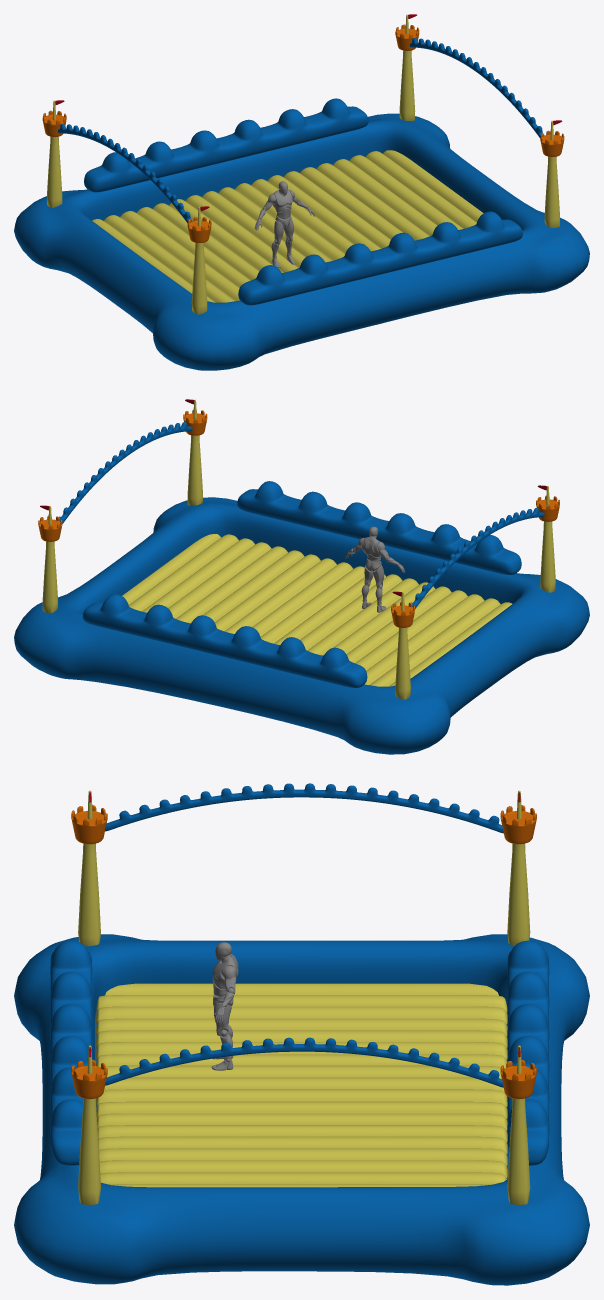
The model's file is Luftburg.fbx.
The picture shows the model from 3 angles, top to bottom: view 1: azimuth 30°, elevation 25°; view 2: azimuth 150°, elevation 25°; view 3: azimuth 270°, elevation 25°; orthographic projection. The views are drawn at different scales.
Visible parts, largest first — view 1: Rahmen, Boden, Mauer2, pasted__polySurface5, SkeletalMeshComponent0, Turm4, Turm1, Turm2, Turm3, pCube18, pCube17; view 2: Rahmen, Boden, pasted__polySurface5, Mauer2, SkeletalMeshComponent0, Turm3, Turm2, Turm4, Turm1, pCube18, pCube17; view 3: Rahmen, Boden, Mauer2, pasted__polySurface5, pCube17, pCube18, Turm2, Turm1, Turm4, Turm3, SkeletalMeshComponent0.
Part boxes in pixels (x1,y1,x2,y2): Rahmen: [14, 113, 589, 370]; Boden: [92, 150, 483, 302]; Mauer2: [238, 211, 522, 305]; pasted__polySurface5: [84, 98, 368, 192]; SkeletalMeshComponent0: [254, 181, 314, 267]; Turm4: [187, 217, 211, 314]; Turm1: [540, 130, 564, 227]; Turm2: [395, 24, 419, 120]; Turm3: [42, 110, 66, 207]; pCube18: [409, 38, 544, 138]; pCube17: [58, 124, 192, 223]; Rahmen: [14, 497, 589, 754]; Boden: [122, 534, 512, 686]; pasted__polySurface5: [82, 594, 367, 687]; Mauer2: [237, 481, 521, 574]; SkeletalMeshComponent0: [345, 526, 405, 612]; Turm3: [391, 601, 414, 699]; Turm2: [38, 515, 62, 612]; Turm4: [536, 496, 559, 592]; Turm1: [183, 409, 207, 505]; pCube18: [59, 422, 192, 523]; pCube17: [411, 508, 544, 608]; Rahmen: [14, 934, 589, 1285]; Boden: [96, 983, 507, 1187]; Mauer2: [50, 940, 92, 1165]; pasted__polySurface5: [507, 940, 549, 1165]; pCube17: [105, 783, 503, 833]; pCube18: [105, 1037, 503, 1087]; Turm2: [500, 1060, 536, 1204]; Turm1: [71, 1060, 107, 1204]; Turm4: [71, 805, 107, 946]; Turm3: [500, 805, 536, 945]; SkeletalMeshComponent0: [211, 942, 238, 1070].
Size of the model in its own units: 98.55 by 36.9 by 79.08.
